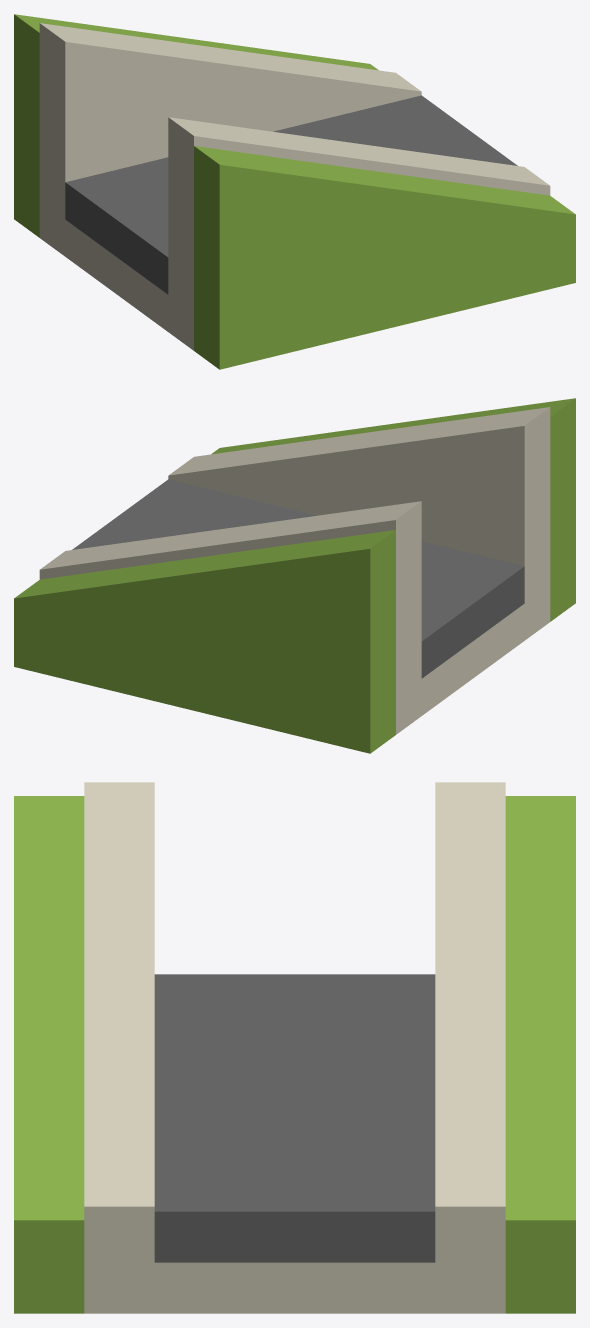
The model's file is roadTile_191.obj.
3 views of the same model, one above another, from view 1: azimuth 30°, elevation 25°; view 2: azimuth 150°, elevation 25°; view 3: azimuth 270°, elevation 25° (orthographic). The views are drawn at different scales.
Visible parts, largest first — view 1: Mesh1_Group1_Model.177; view 2: Mesh1_Group1_Model.177; view 3: Mesh1_Group1_Model.177.
Part boxes in pixels (left/top/right/bottom): Mesh1_Group1_Model.177: left=14, top=14, right=575, bottom=369; Mesh1_Group1_Model.177: left=14, top=398, right=575, bottom=753; Mesh1_Group1_Model.177: left=14, top=782, right=575, bottom=1313.
Bounding box in the file's own units: 3 × 1.73 × 3.
